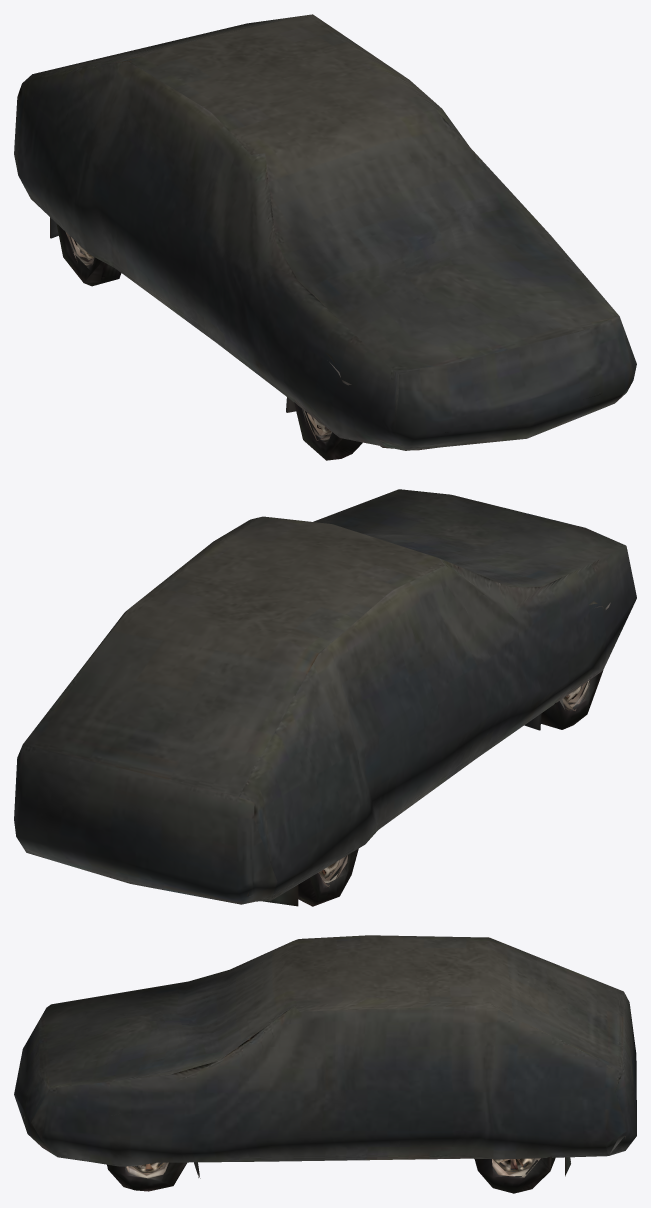
File: covered_car.glb
3 renders of one model, top to bottom at view 1: azimuth 30°, elevation 25°; view 2: azimuth 150°, elevation 25°; view 3: azimuth 270°, elevation 25°, orthographic. The views are drawn at different scales.
Visible parts, largest first — view 1: covered_car; view 2: covered_car; view 3: covered_car.
Boxes of the visible parts, x1,y1,x2,y2 form: covered_car: [14, 14, 636, 460]; covered_car: [14, 489, 636, 906]; covered_car: [14, 935, 636, 1193].
Size of the model in its own units: 1.8 by 1.42 by 4.38.
2 materials, 2 textured.
